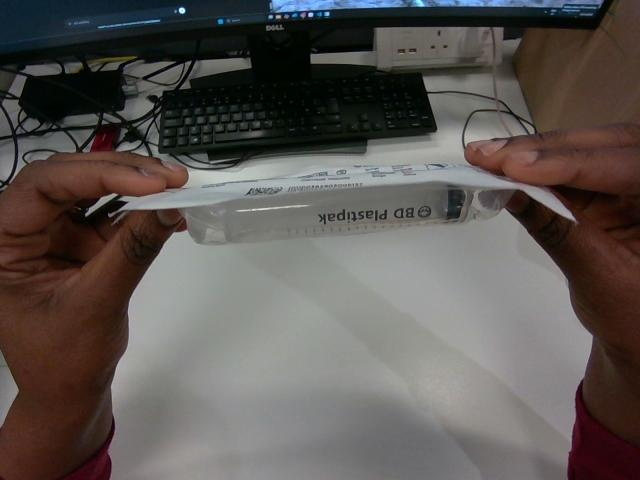syringe: (125, 164, 563, 243)
